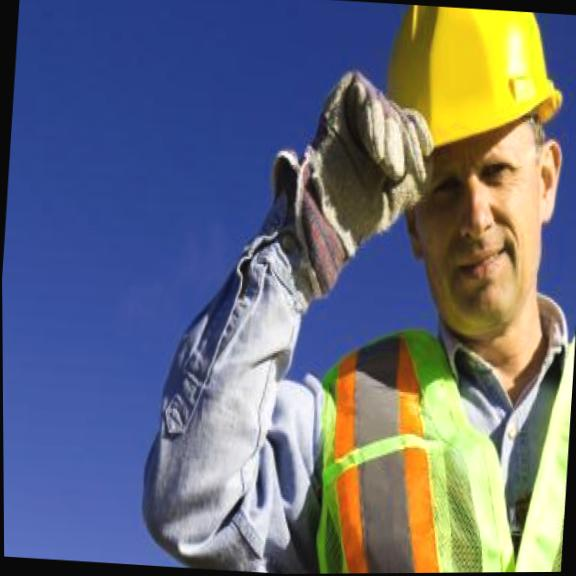safety_vest: (309, 321, 576, 574)
